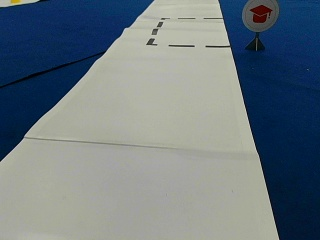school: (241, 0, 279, 33)
